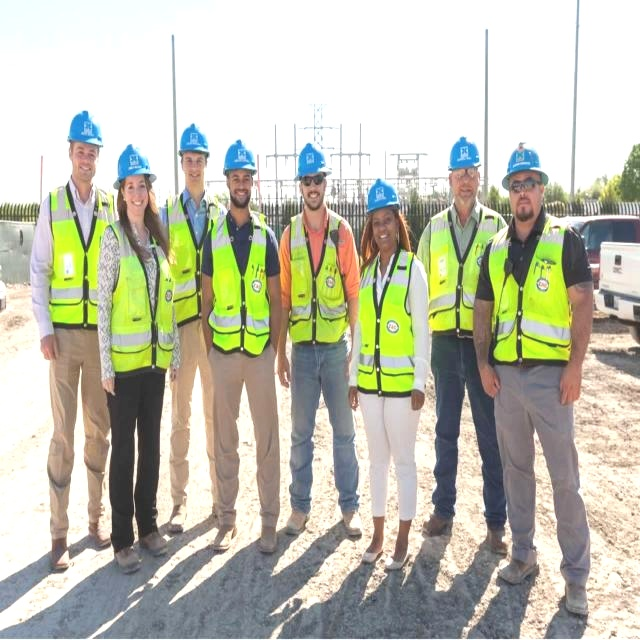Con_Casco: (445, 135, 481, 205), (223, 138, 257, 205), (178, 121, 210, 189)
Con_Chaleco: (491, 217, 572, 362), (103, 222, 174, 369), (431, 207, 503, 338), (51, 184, 117, 320), (211, 211, 272, 352), (362, 250, 422, 391), (289, 208, 346, 343), (164, 193, 226, 313)
